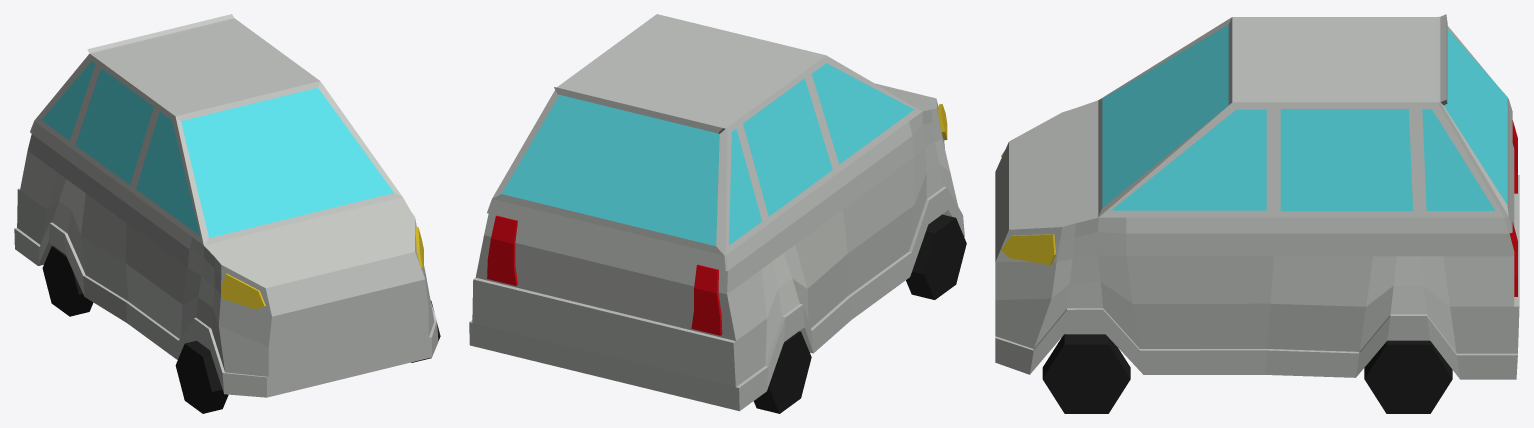
File: AmbulanceSementara.fbx
The picture shows the model from 3 angles, left to right: view 1: azimuth 30°, elevation 25°; view 2: azimuth 150°, elevation 25°; view 3: azimuth 270°, elevation 25°; orthographic projection. The views are drawn at different scales.
Visible parts, largest first — view 1: Cube.012, Cylinder.008, Cylinder.009, Cube.013; view 2: Cube.012, Cube.014, Cylinder.008, Cylinder.009; view 3: Cube.012, Cylinder.008, Cylinder.009, Cube.013, Cube.014.
Boxes of the visible parts, left/top/right/bottom form: Cube.012: left=14, top=14, right=438, bottom=397; Cylinder.008: left=175, top=301, right=440, bottom=413; Cylinder.009: left=42, top=246, right=93, bottom=316; Cube.013: left=221, top=227, right=423, bottom=309; Cube.012: left=469, top=14, right=964, bottom=411; Cube.014: left=487, top=215, right=722, bottom=335; Cylinder.008: left=906, top=214, right=966, bottom=299; Cylinder.009: left=753, top=331, right=811, bottom=413; Cube.012: left=995, top=14, right=1519, bottom=379; Cylinder.008: left=1042, top=334, right=1130, bottom=413; Cylinder.009: left=1364, top=340, right=1452, bottom=413; Cube.013: left=1001, top=151, right=1056, bottom=265; Cube.014: left=1509, top=120, right=1517, bottom=296.
Size of the model in its own units: 237 by 230 by 377.
